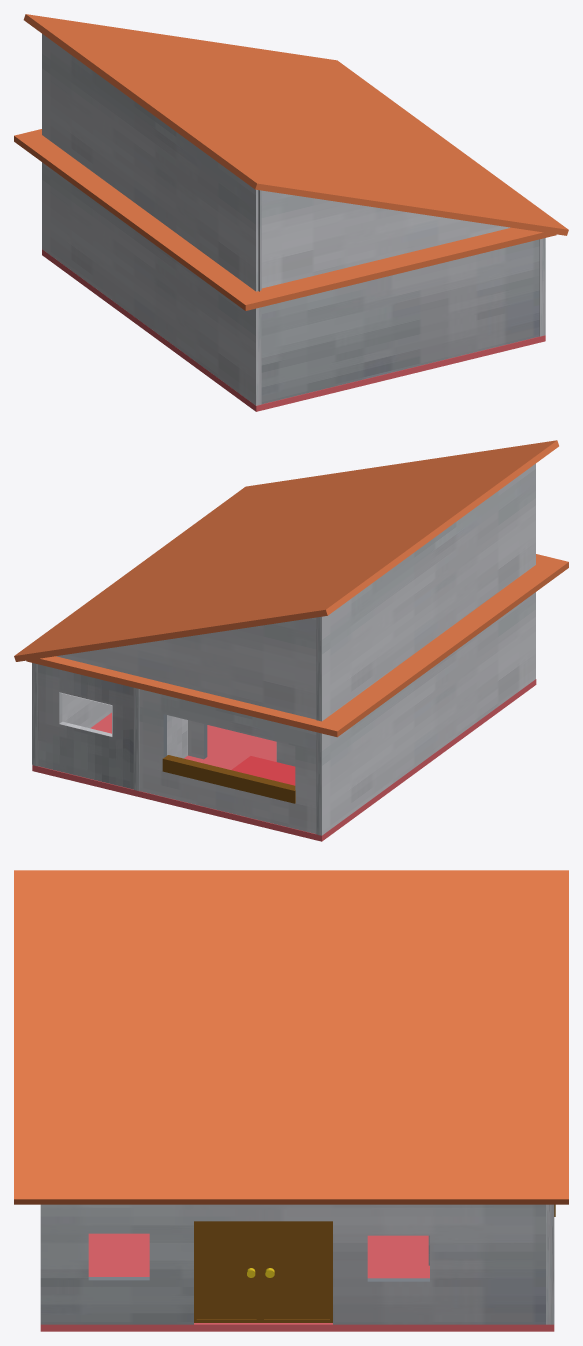
File: wallsAndFloor.glb
The picture shows the model from 3 angles, top to bottom: view 1: azimuth 30°, elevation 25°; view 2: azimuth 150°, elevation 25°; view 3: azimuth 270°, elevation 25°; orthographic projection. The views are drawn at different scales.
Visible parts, largest first — view 1: Roof, Attic_Walls, Back_Wall, Left_Wall, Ceiling, Floor, Entry_Wall; view 2: Roof, Attic_Walls, Left_Wall, Bedroom_Wall_Outer, Ceiling, B-Wall, Floor, Bedroom_Windowsil, Entry_Wall, L-Wall, Bedroom_Wall_Inner, Bed; view 3: Roof, Entry_Wall, Door, Floor, B-Wall.
Part boxes in pixels (box(x1,y1,x2,y2)): Roof: box(23, 14, 568, 235); Attic_Walls: box(42, 34, 510, 291); Back_Wall: box(261, 239, 539, 404); Left_Wall: box(42, 162, 261, 405); Ceiling: box(14, 129, 556, 310); Floor: box(42, 249, 545, 411); Entry_Wall: box(539, 238, 545, 336); Roof: box(14, 440, 558, 661); Attic_Walls: box(56, 463, 535, 721); Left_Wall: box(316, 592, 535, 835); Bedroom_Wall_Outer: box(139, 689, 316, 833); Ceiling: box(26, 554, 568, 737); B-Wall: box(32, 663, 139, 790); Floor: box(32, 679, 536, 841); Bedroom_Windowsil: box(162, 755, 295, 803); Entry_Wall: box(32, 663, 111, 766); L-Wall: box(133, 687, 187, 791); Bedroom_Wall_Inner: box(188, 720, 295, 766); Bed: box(231, 756, 295, 785); Roof: box(14, 870, 568, 1204); Entry_Wall: box(40, 1204, 554, 1324); Door: box(194, 1221, 332, 1322); Floor: box(40, 1233, 554, 1331); B-Wall: box(546, 1204, 553, 1324).
Size of the model in its own units: 29.47 by 20.81 by 36.55.
Materials: 18 (10 with a texture image).
